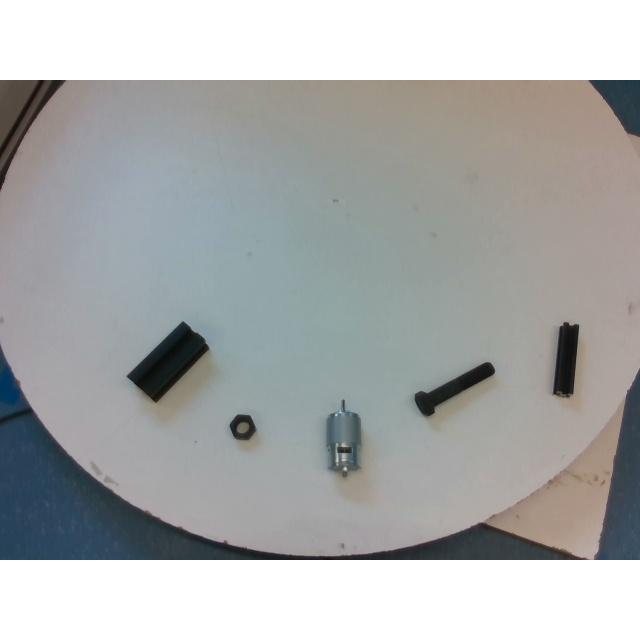F20_20_B: (554, 320, 578, 396)
M20: (228, 414, 256, 438)
M20_100: (414, 362, 494, 414)
Motor2: (326, 400, 362, 476)
S40_40_B: (128, 322, 208, 402)
